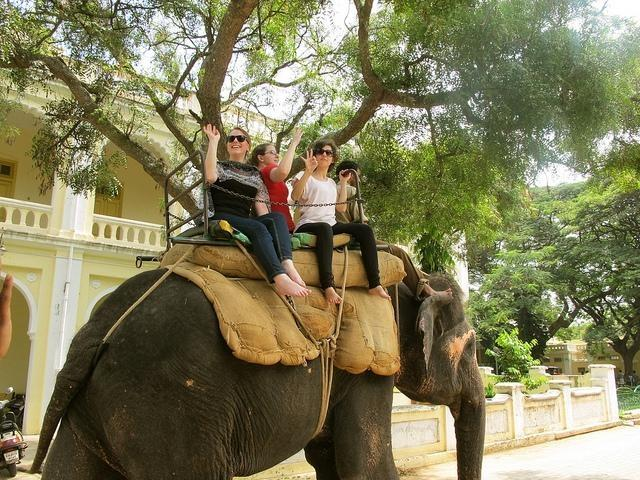motorcycle: (1, 416, 26, 478)
